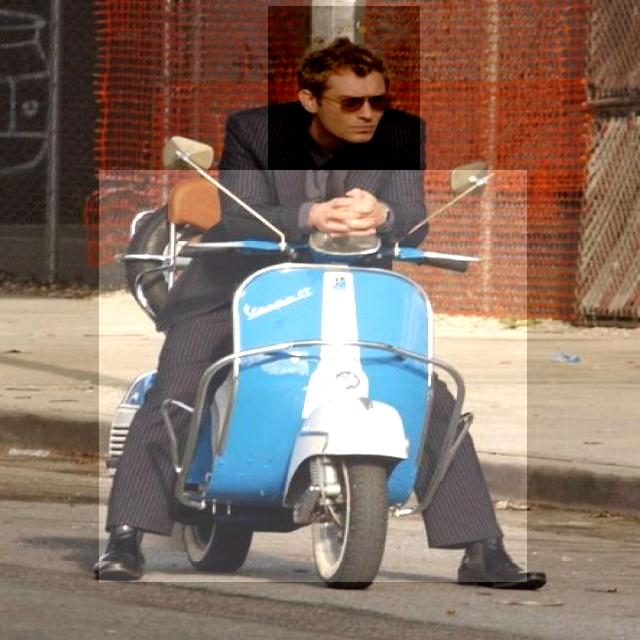Bike: (100, 170, 528, 582)
No_Helmet: (268, 7, 420, 170)
